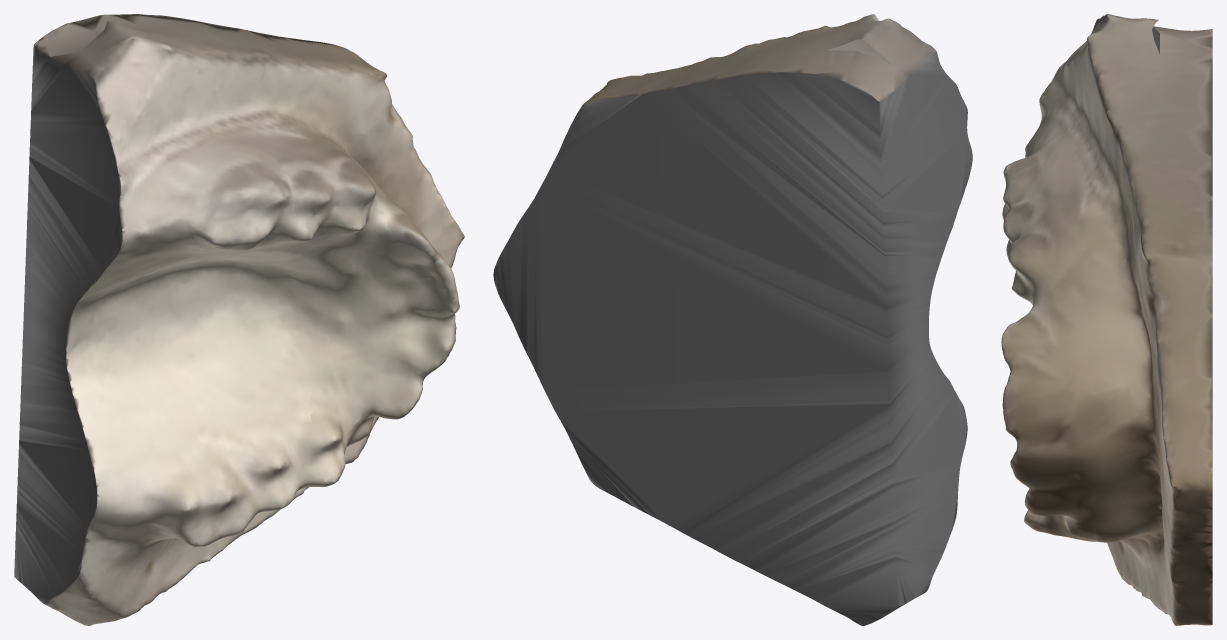
The model's file is M-J-B-Haut.obj.
3 renders of one model, left to right at view 1: azimuth 30°, elevation 25°; view 2: azimuth 150°, elevation 25°; view 3: azimuth 270°, elevation 25°, orthographic. The views are drawn at different scales.
Size of the model in its own units: 0.0536 by 0.0712 by 0.0238.
Materials: 2 (1 with a texture image).
